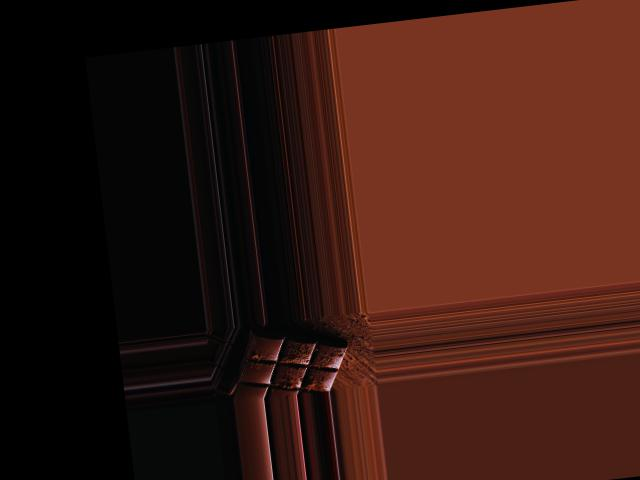chocolate: (225, 320, 358, 401)
